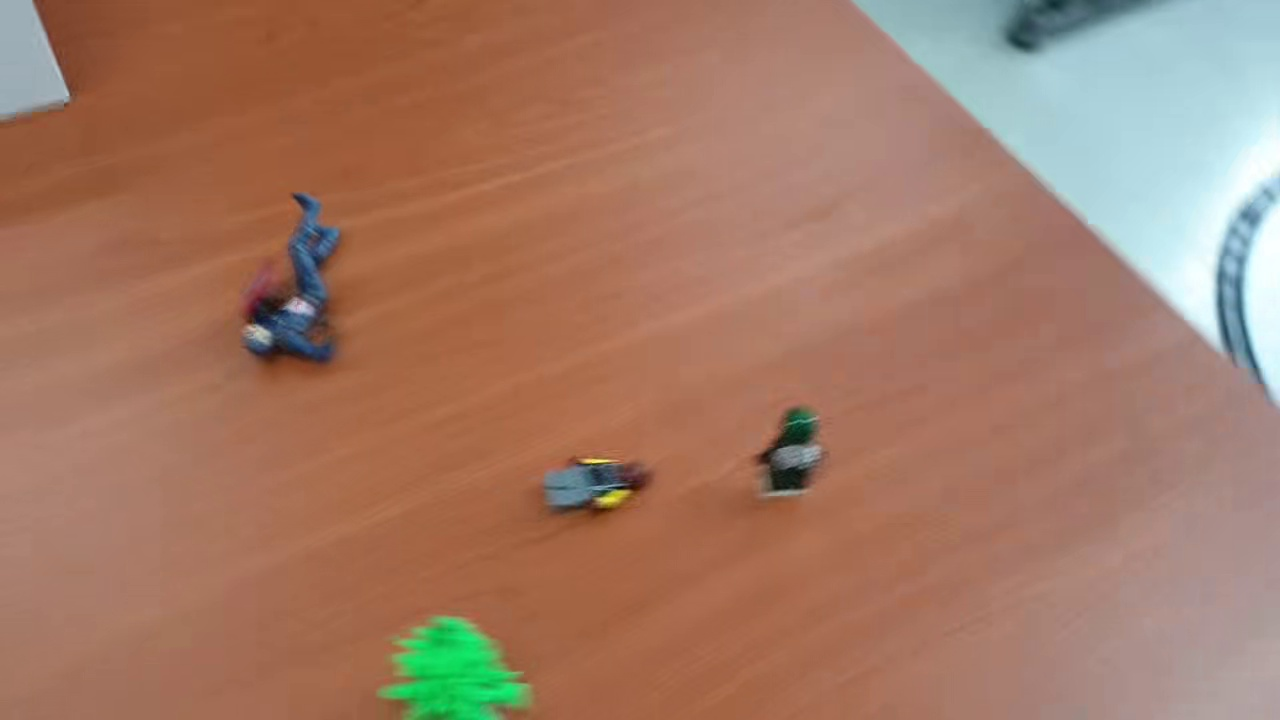people: (237, 189, 339, 365), (751, 402, 829, 502), (538, 455, 652, 515)
tree: (375, 611, 536, 718)
